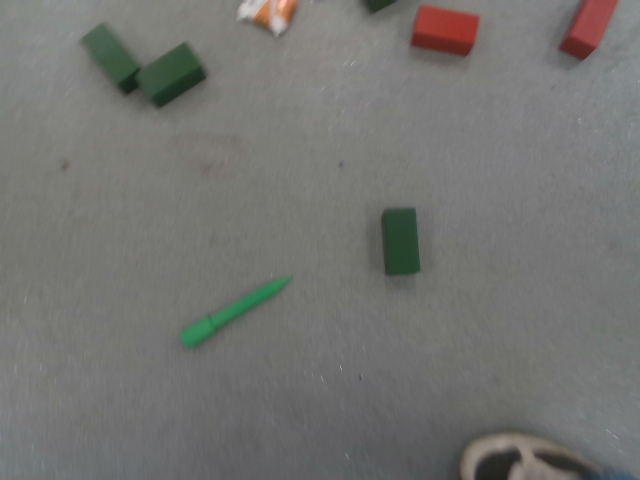Probe: (176, 273, 295, 352)
